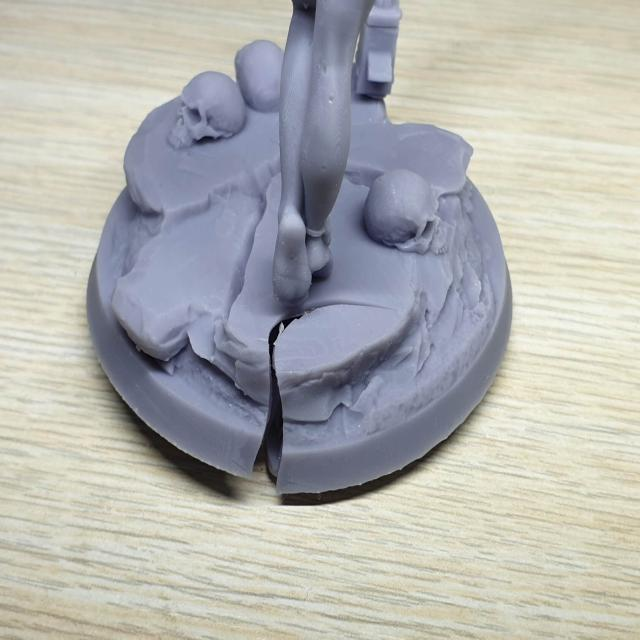Warping: (240, 277, 364, 493)
